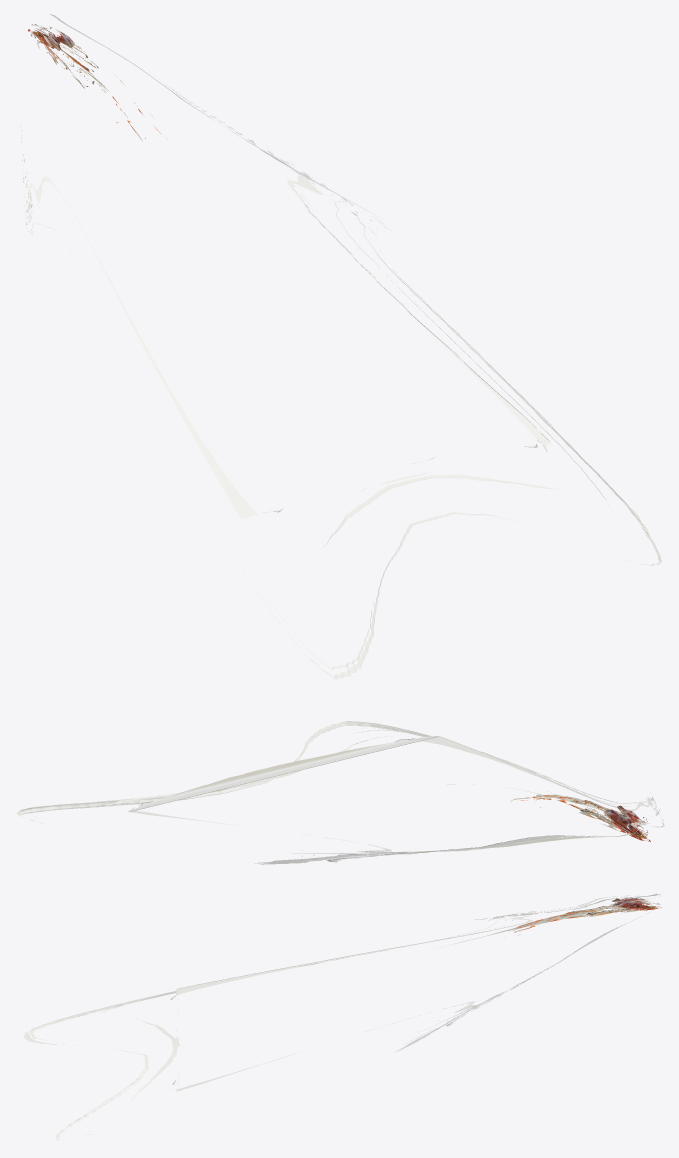
File: intro-slide-2_1280x720-1724086ec1b0.glb
3 renders of one model, top to bottom at view 1: azimuth 30°, elevation 25°; view 2: azimuth 210°, elevation 25°; view 3: azimuth 270°, elevation 25°, orthographic. The views are drawn at different scales.
Visible parts, largest first — view 1: mesh0; view 2: mesh0; view 3: mesh0.
Part boxes in pixels (x1=…): mesh0: x1=20, y1=14, x2=661, y2=679; mesh0: x1=17, y1=721, x2=664, y2=864; mesh0: x1=23, y1=893, x2=661, y2=1140.
Bounding box in the file's own units: 11.58 × 8.42 × 25.59.
Materials: 1 (1 with a texture image).
